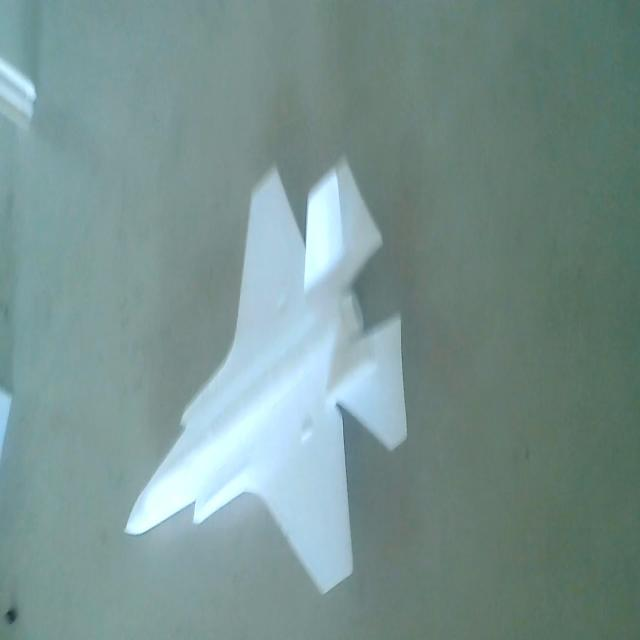Jet: (120, 156, 410, 608)
